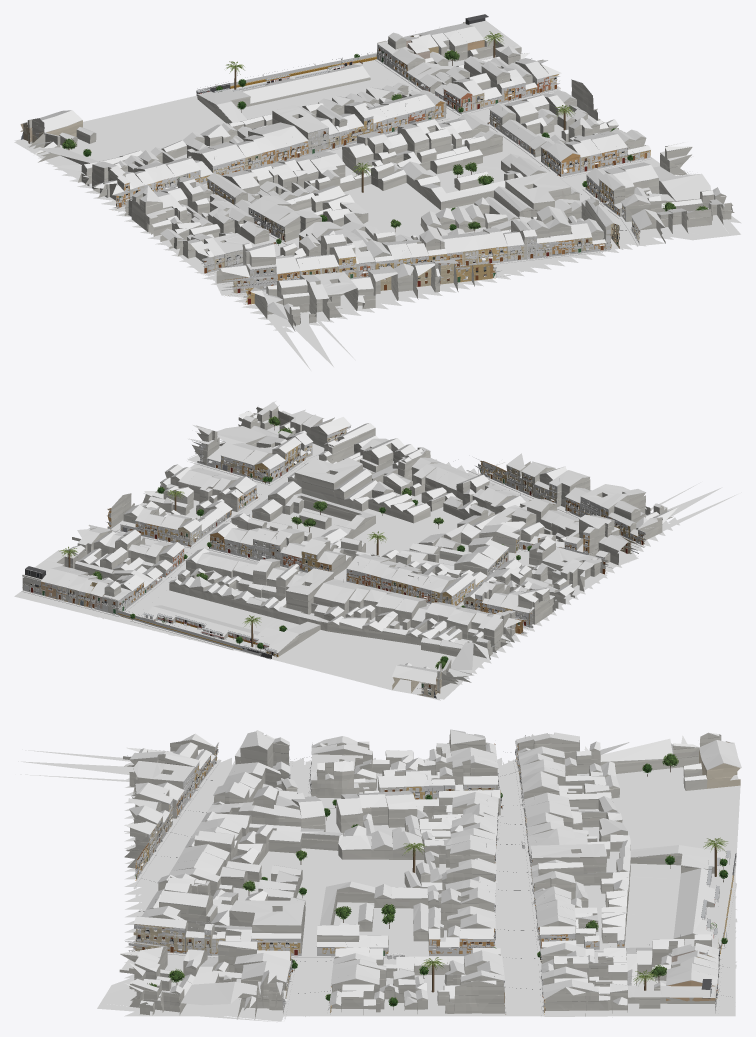
The model's file is zona_1_-2.glb.
3 renders of one model, top to bottom at view 1: azimuth 30°, elevation 25°; view 2: azimuth 150°, elevation 25°; view 3: azimuth 270°, elevation 25°, orthographic. The views are drawn at different scales.
Visible parts, largest first — view 1: z_tejados_1_-2, z_casas_1_-2, z_calle_1_-2, z_fachadas_1_-2, z_casas_planas_1_-2, z_arboles_1_-2, z_suelo_1_-2, z_detalles_pueblo_1_-2; view 2: z_tejados_1_-2, z_casas_1_-2, z_calle_1_-2, z_fachadas_1_-2, z_casas_planas_1_-2, z_arboles_1_-2, z_suelo_1_-2, z_detalles_pueblo_1_-2; view 3: z_tejados_1_-2, z_calle_1_-2, z_casas_1_-2, z_casas_planas_1_-2, z_fachadas_1_-2, z_suelo_1_-2, z_arboles_1_-2, z_objetos_1_-2.
Part boxes in pixels (<box>): z_tejados_1_-2: <box>21,23,730,320</box>; z_casas_1_-2: <box>20,35,734,331</box>; z_calle_1_-2: <box>14,52,741,370</box>; z_fachadas_1_-2: <box>21,14,664,304</box>; z_casas_planas_1_-2: <box>105,20,716,317</box>; z_arboles_1_-2: <box>62,31,708,245</box>; z_suelo_1_-2: <box>116,53,659,302</box>; z_detalles_pueblo_1_-2: <box>118,53,650,293</box>; z_tejados_1_-2: <box>40,401,678,684</box>; z_casas_1_-2: <box>41,407,673,698</box>; z_calle_1_-2: <box>14,410,741,700</box>; z_fachadas_1_-2: <box>22,426,645,695</box>; z_casas_planas_1_-2: <box>22,419,629,659</box>; z_arboles_1_-2: <box>59,416,531,670</box>; z_suelo_1_-2: <box>17,455,640,644</box>; z_detalles_pueblo_1_-2: <box>29,450,643,691</box>; z_tejados_1_-2: <box>120,729,741,1010</box>; z_calle_1_-2: <box>18,749,740,1022</box>; z_casas_1_-2: <box>119,731,740,1019</box>; z_casas_planas_1_-2: <box>133,743,736,1019</box>; z_fachadas_1_-2: <box>128,742,736,1014</box>; z_suelo_1_-2: <box>135,760,737,1016</box>; z_arboles_1_-2: <box>149,753,728,1009</box>; z_objetos_1_-2: <box>135,735,735,1013</box>.
Bounding box in the file's own units: 215 × 15.26 × 243.
